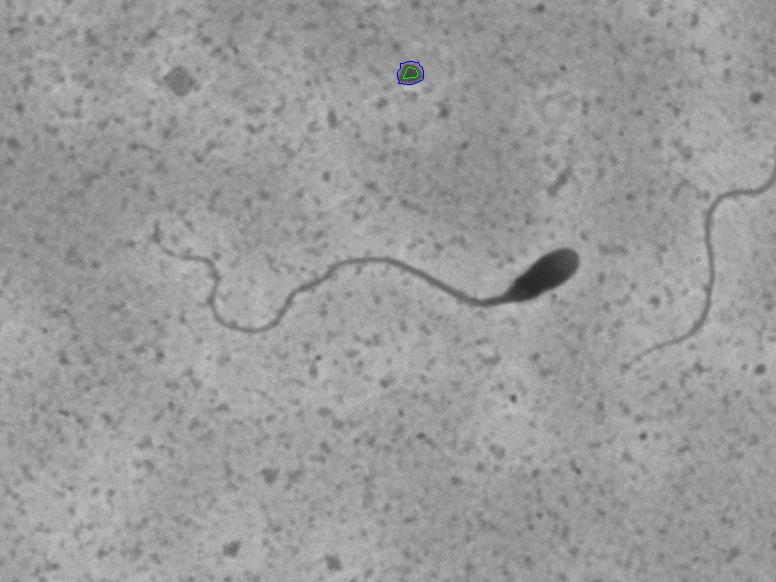Abnormal: (74, 161, 607, 391)
